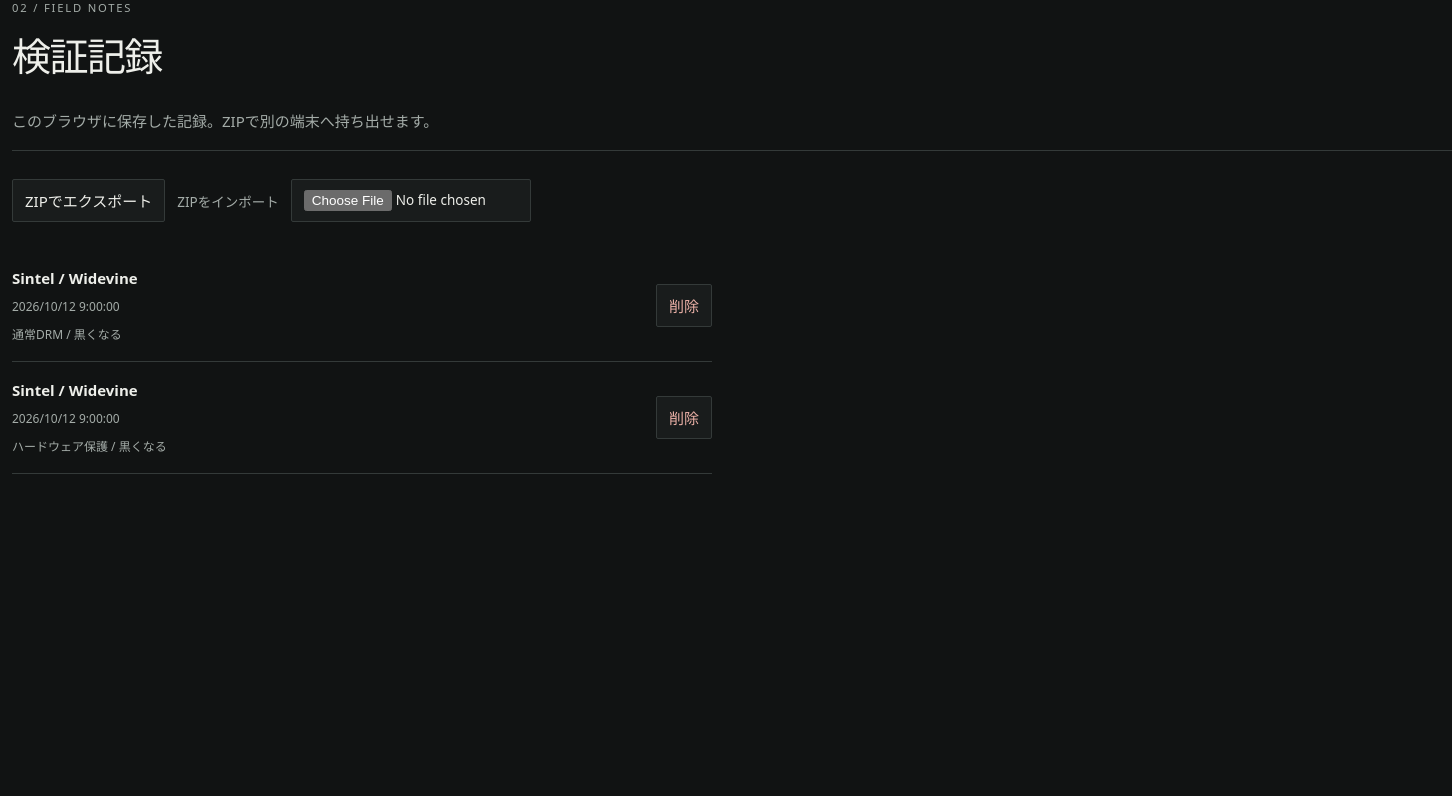
Scenario: 記録画面 › 画像付き詳細を選択し直すとURLを解放する
Click the 1st button with class "record-button": click(75, 278) [12, 268, 644, 343]
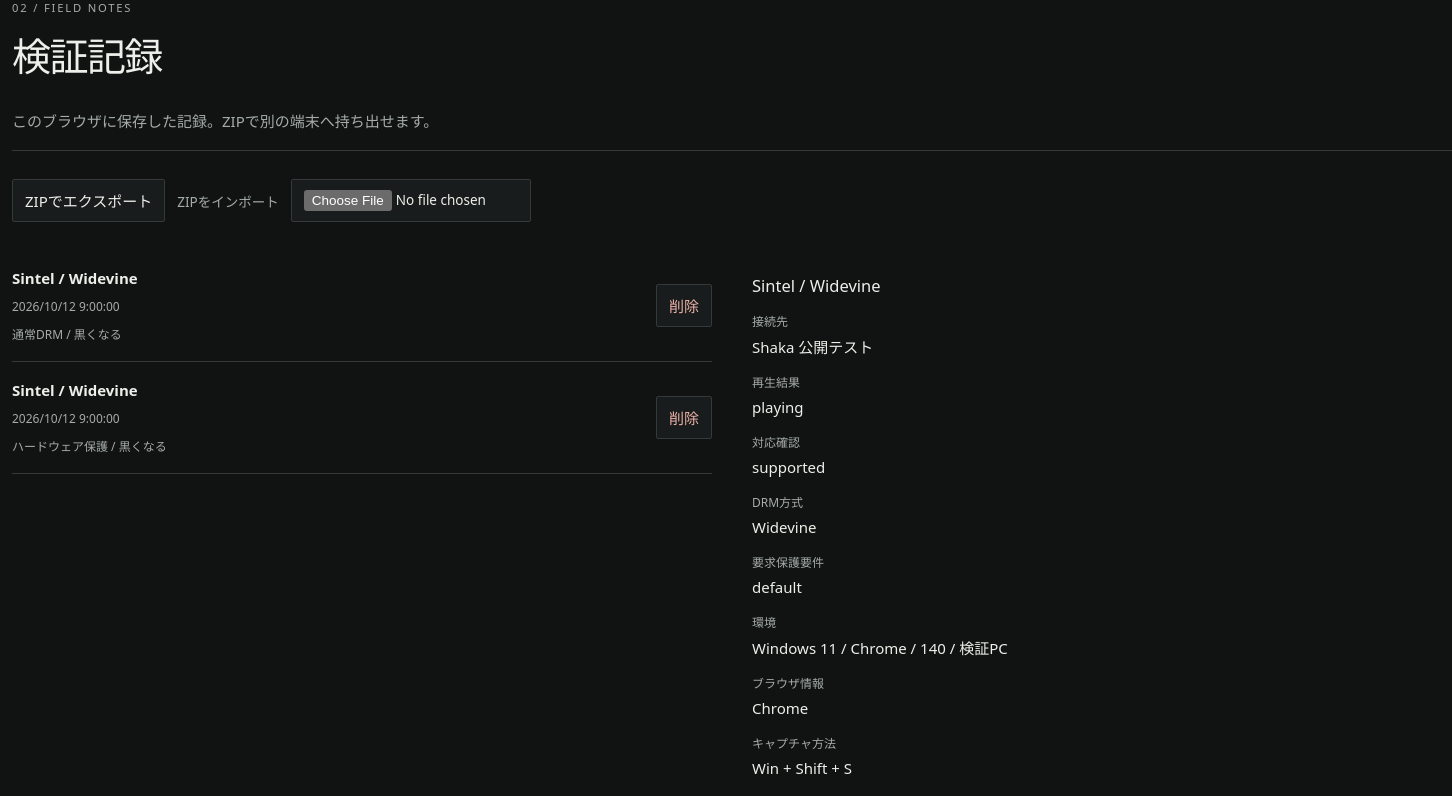
Click the 2nd button with class "record-button": click(75, 390) [12, 380, 644, 455]
(page scrolled)
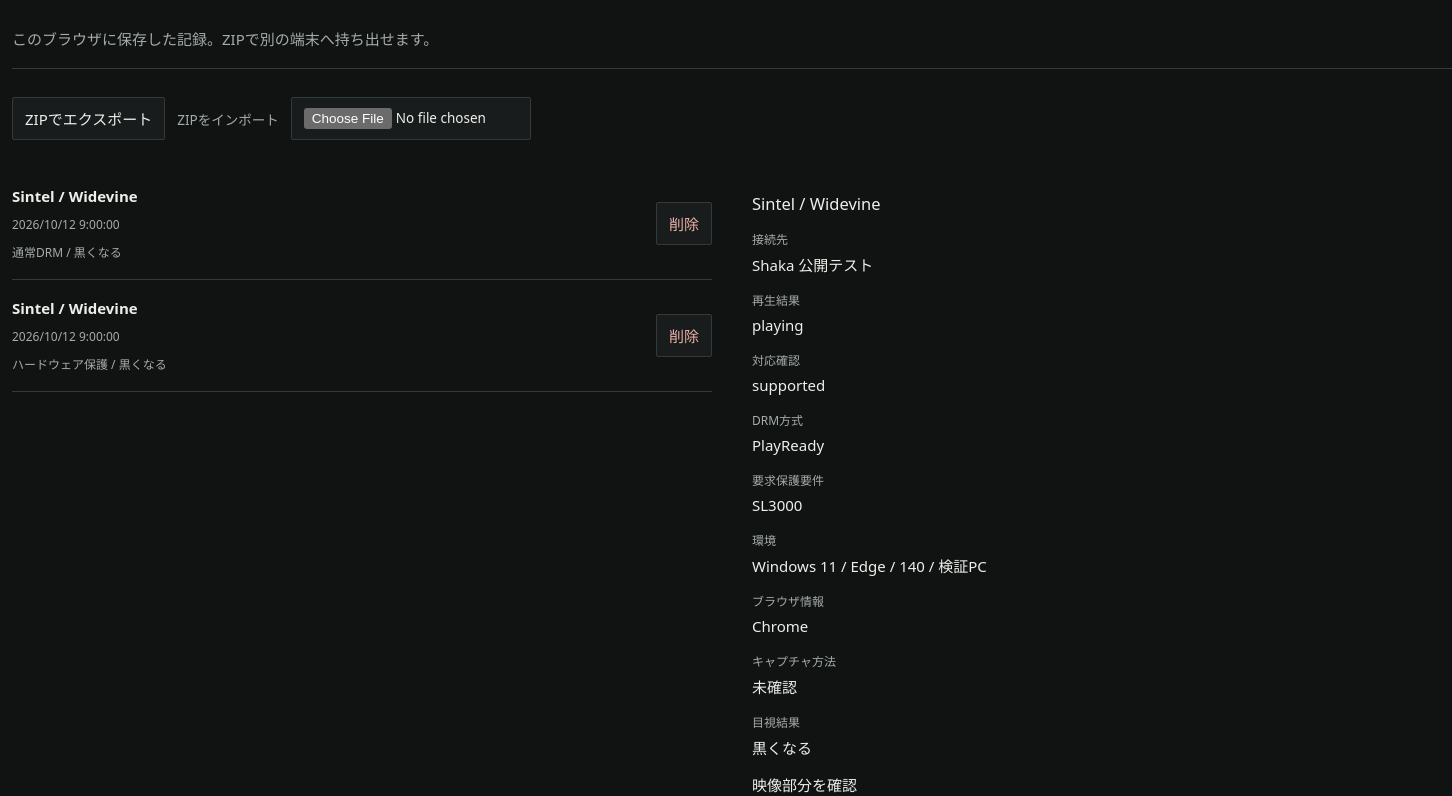
expect the element with class "detail" shows "未確認": met, box [752, 677, 797, 697]
expect the element with class "detail" shows "PlayReady": met, box [752, 435, 824, 455]
expect the element with class "detail" shows "SL3000": met, box [752, 495, 802, 515]
